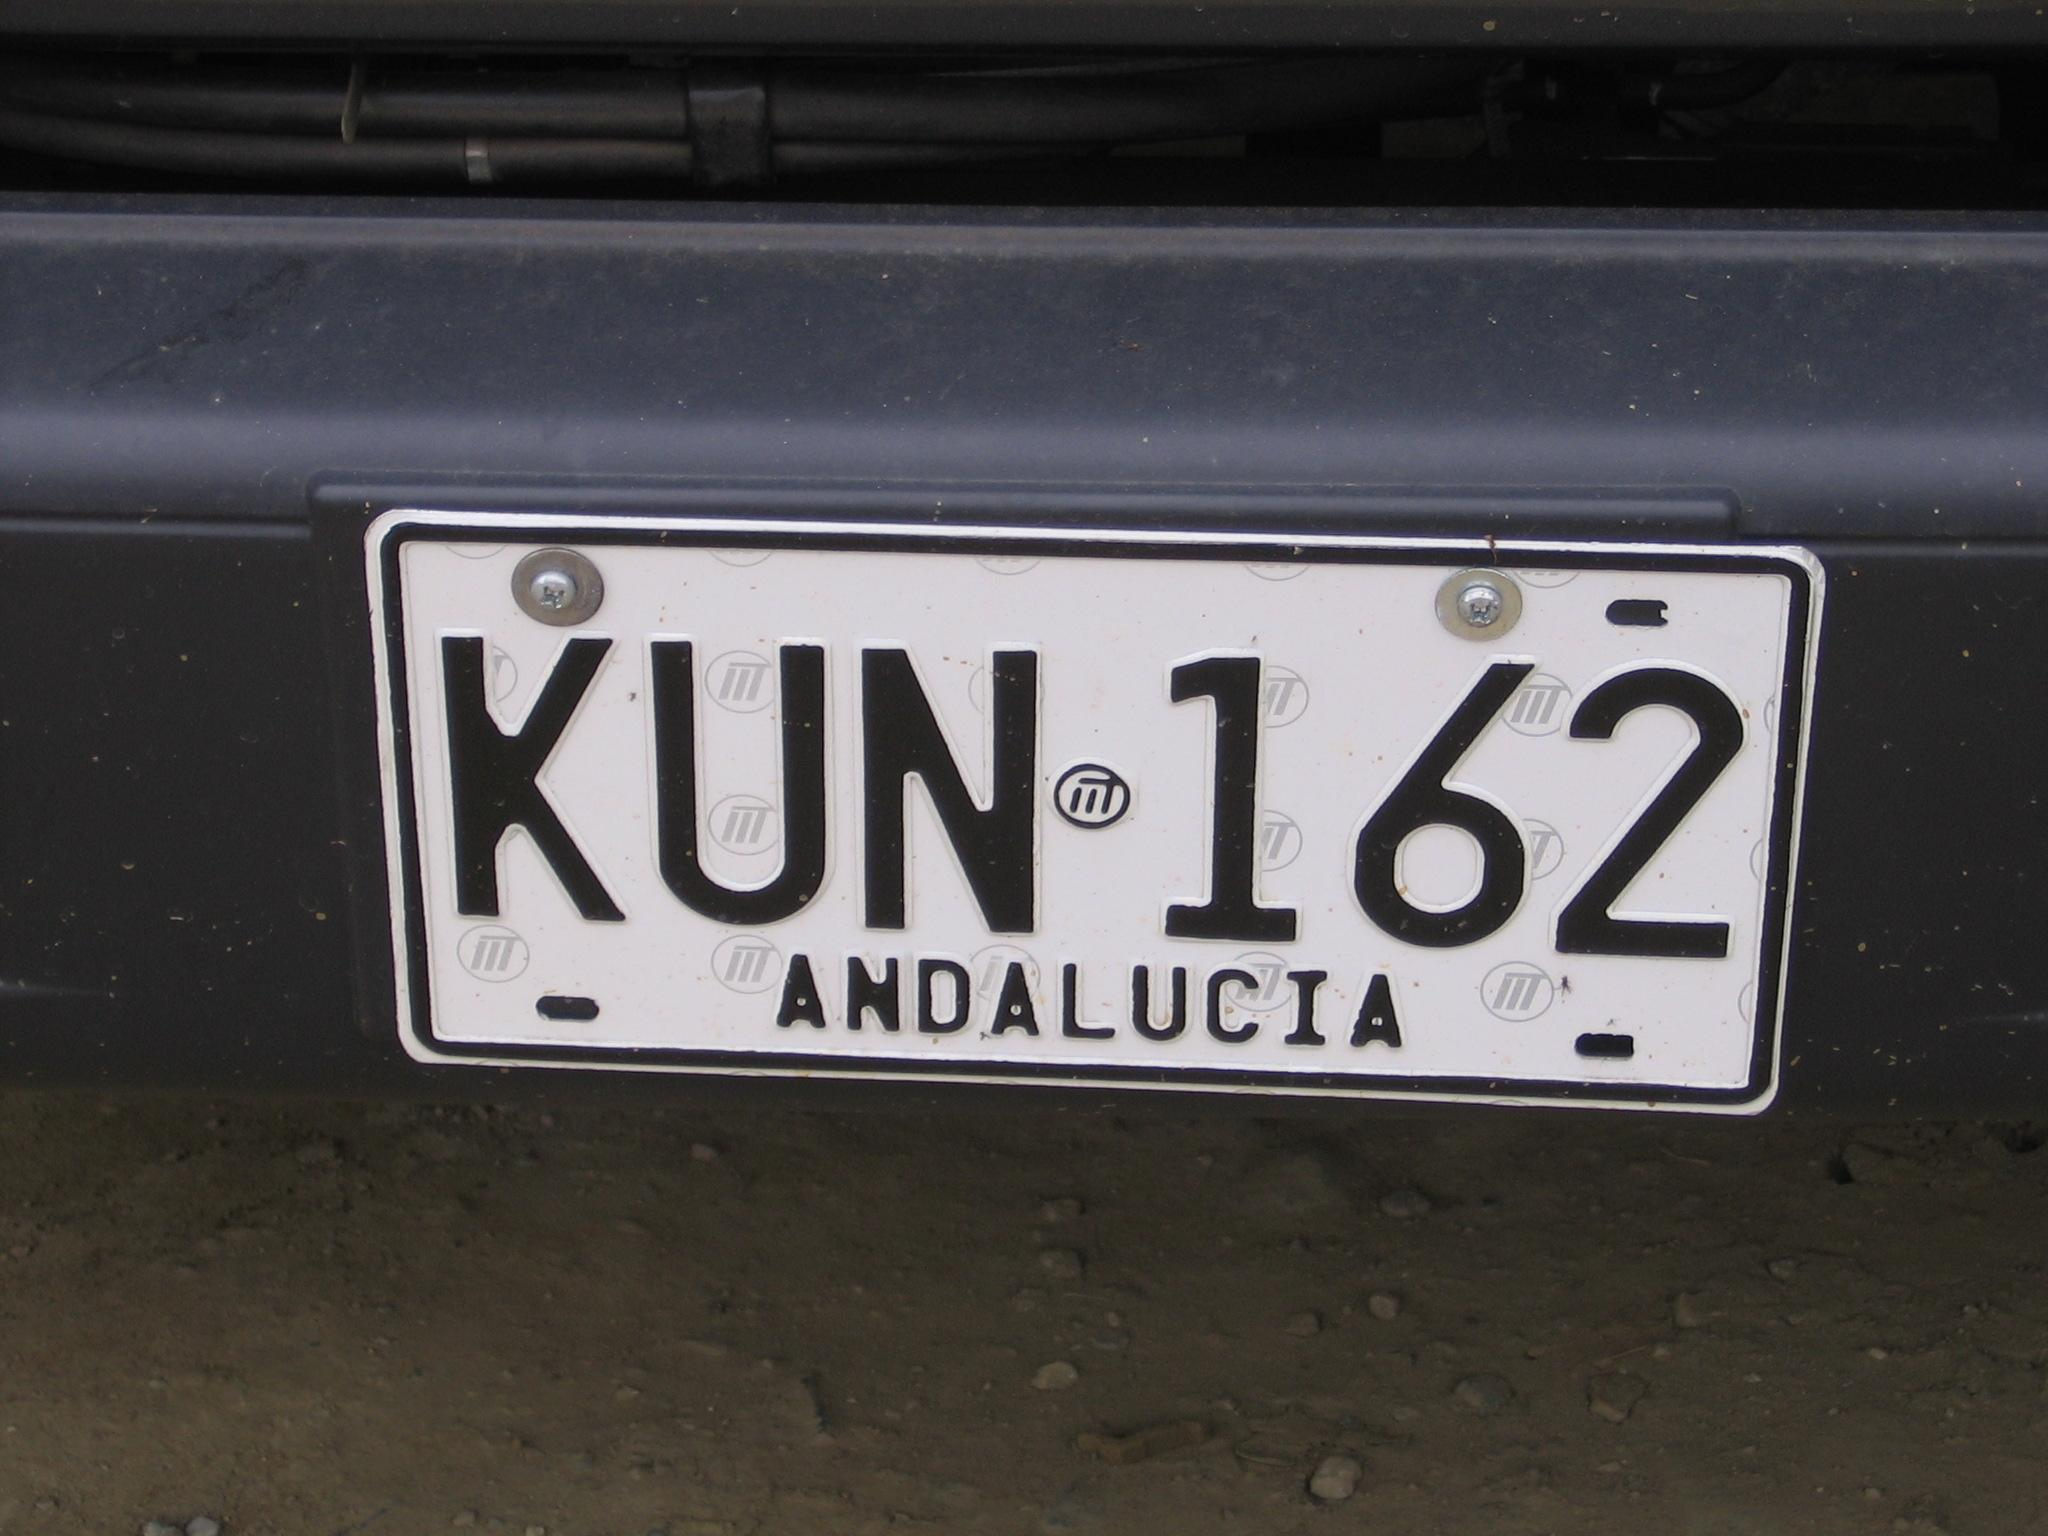placas: (352, 473, 1832, 1125)
